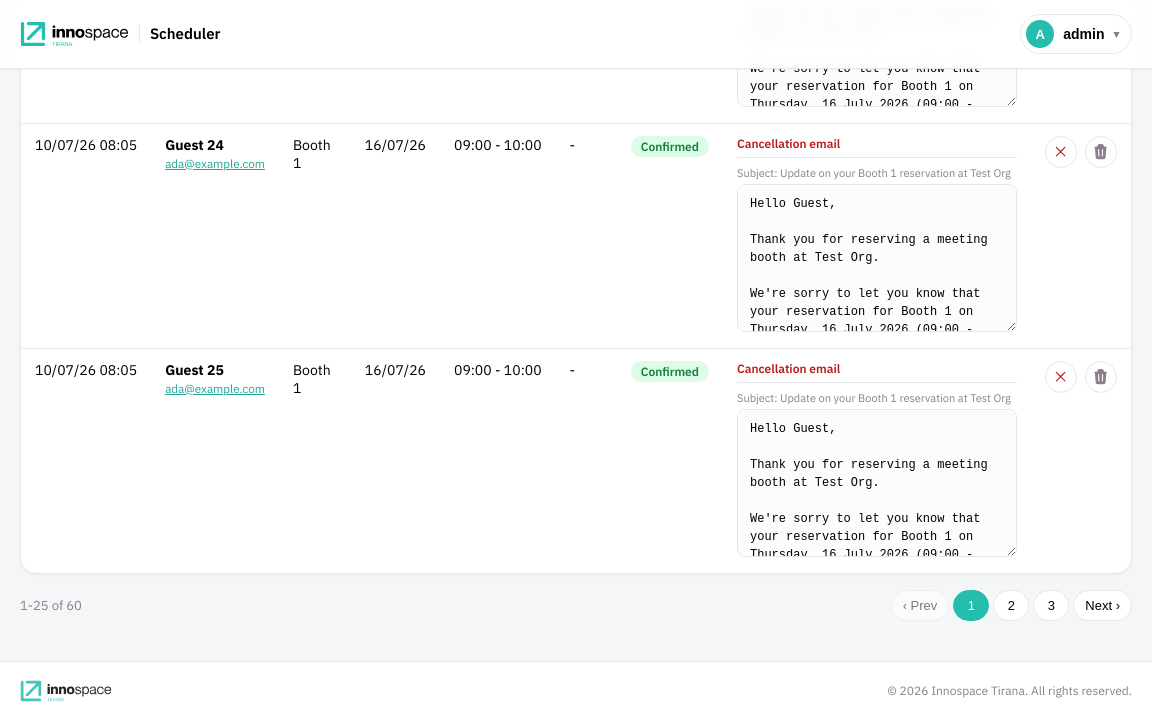
Test: searching › goes back to page one
(page scrolled)
Click the button "2". click: click(1011, 605)
box: [993,590,1029,620]
(page scrolled)
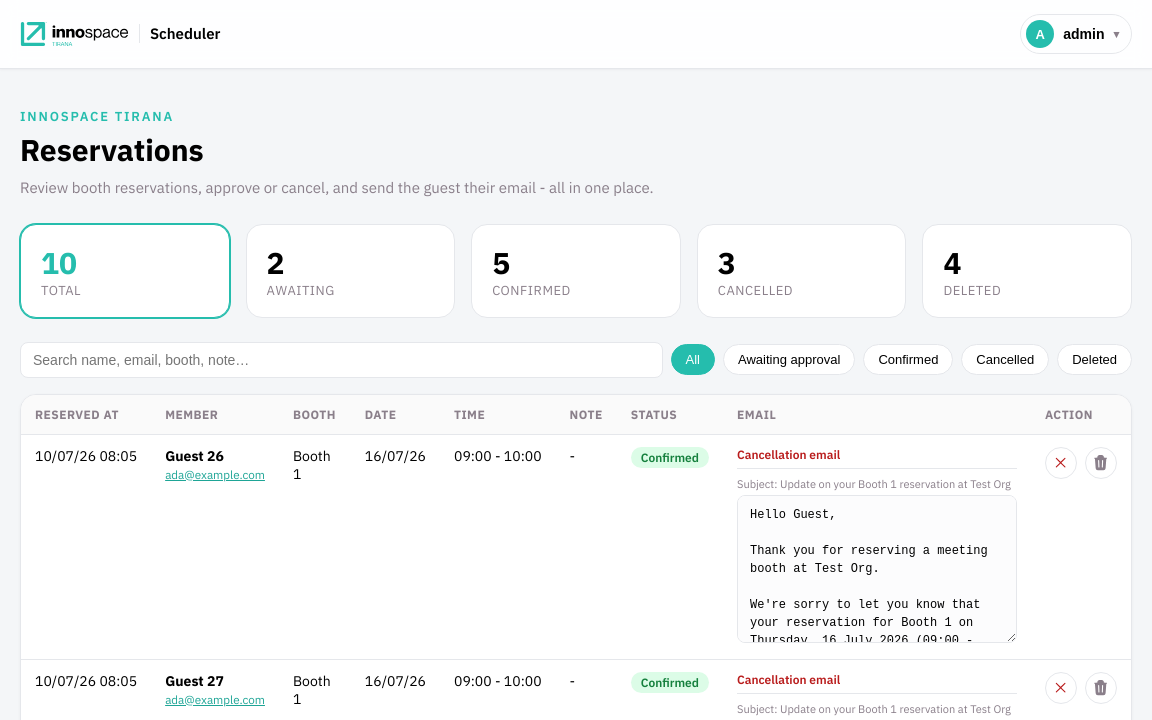
Type "guest" into the search field. click: (341, 360)
box: [20,342,662,378]
(page scrolled)
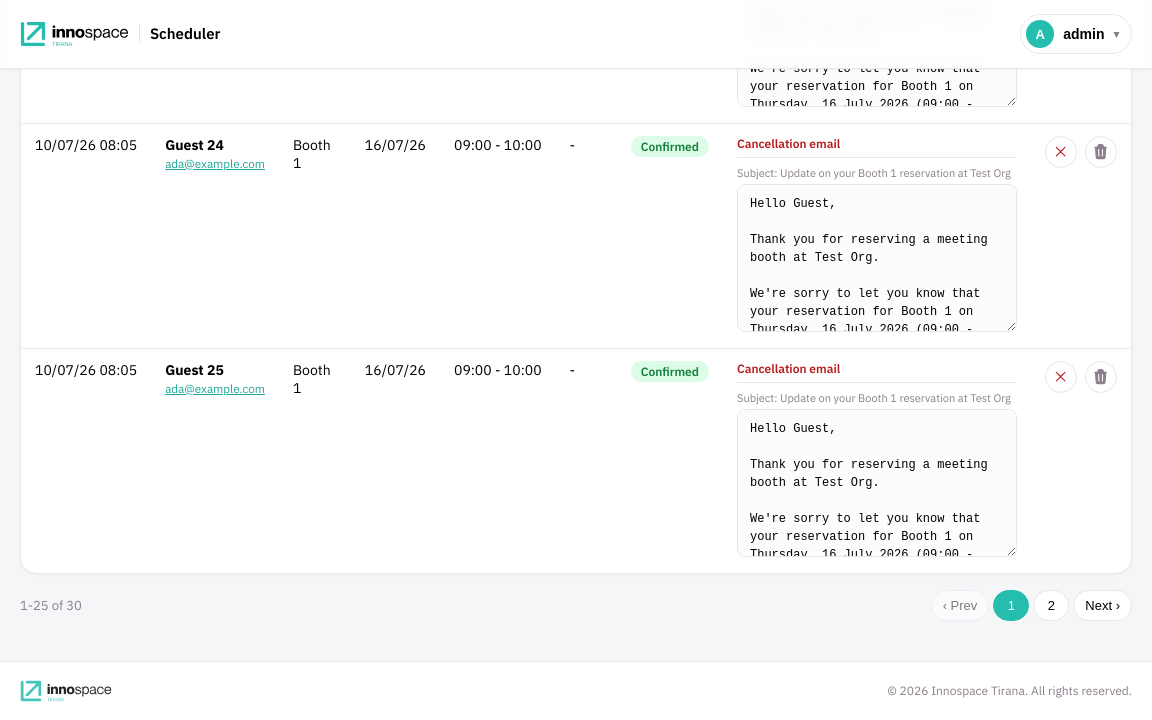
Result: the text "1-25 of 30" is shown at [20,596,82,614]
